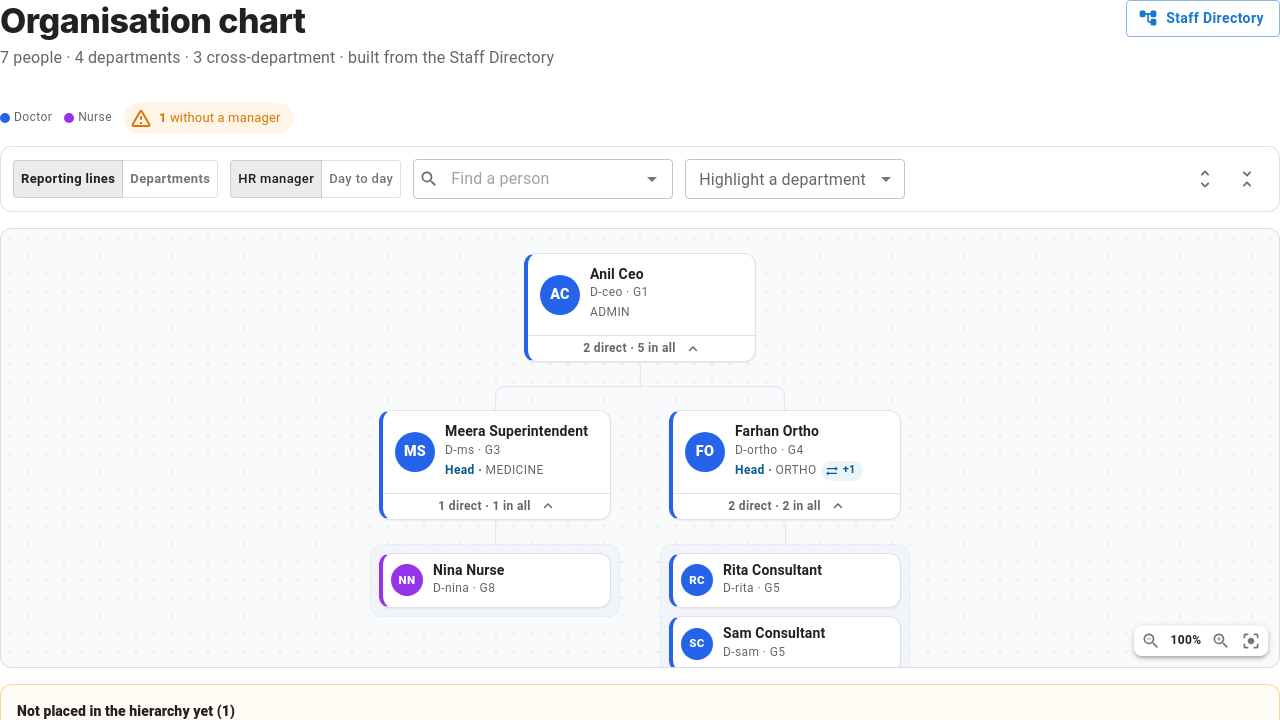
Test: the organisation chart page › shows a person's managers, reports and departments
Click the button with aria-label "Farhan Ortho, D-ortho": (785, 465) x1=669 y1=410 x2=901 y2=520
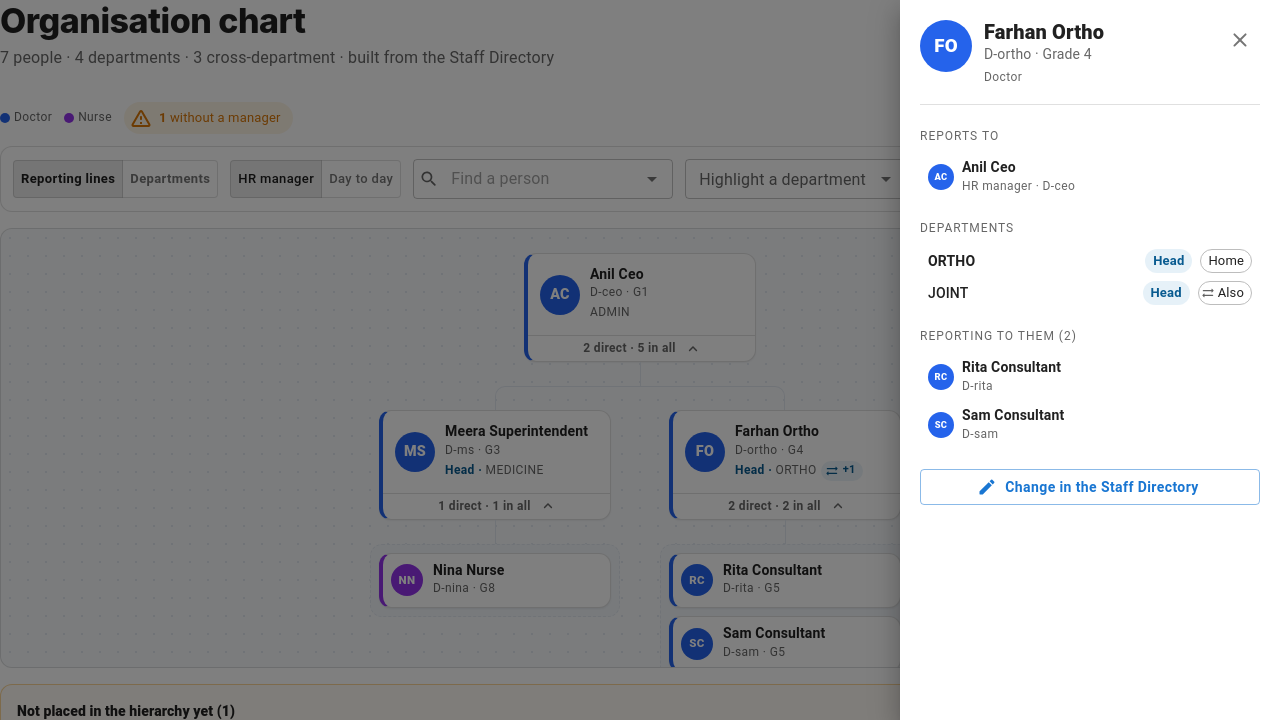
Expected: the text "ORTHO" is shown, x1=928 y1=253 x2=975 y2=269
Expected: the text "JOINT" is shown, x1=928 y1=285 x2=968 y2=301
Expected: the text "Head" is shown 2 times, x1=1153 y1=253 x2=1184 y2=268; x1=1150 y1=285 x2=1182 y2=300
